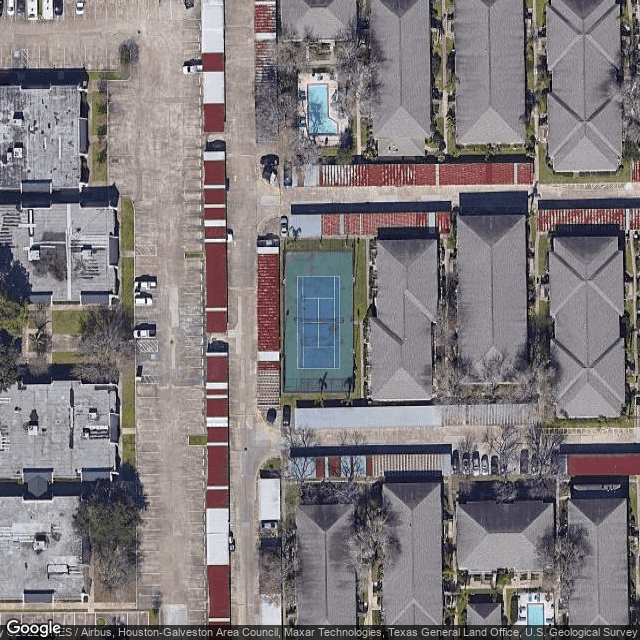Court: (297, 275, 341, 371)
